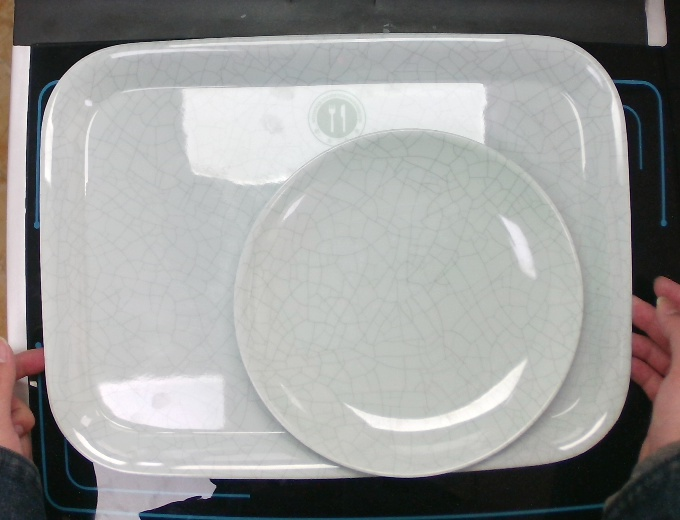JYsf-Da_Yuan_Pan: (229, 125, 587, 481)
